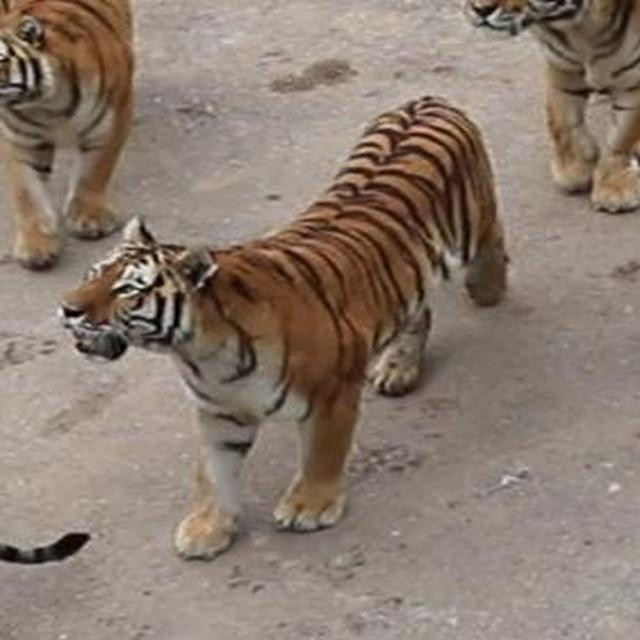tiger: (56, 92, 511, 561), (463, 0, 639, 214), (0, 0, 137, 270)
